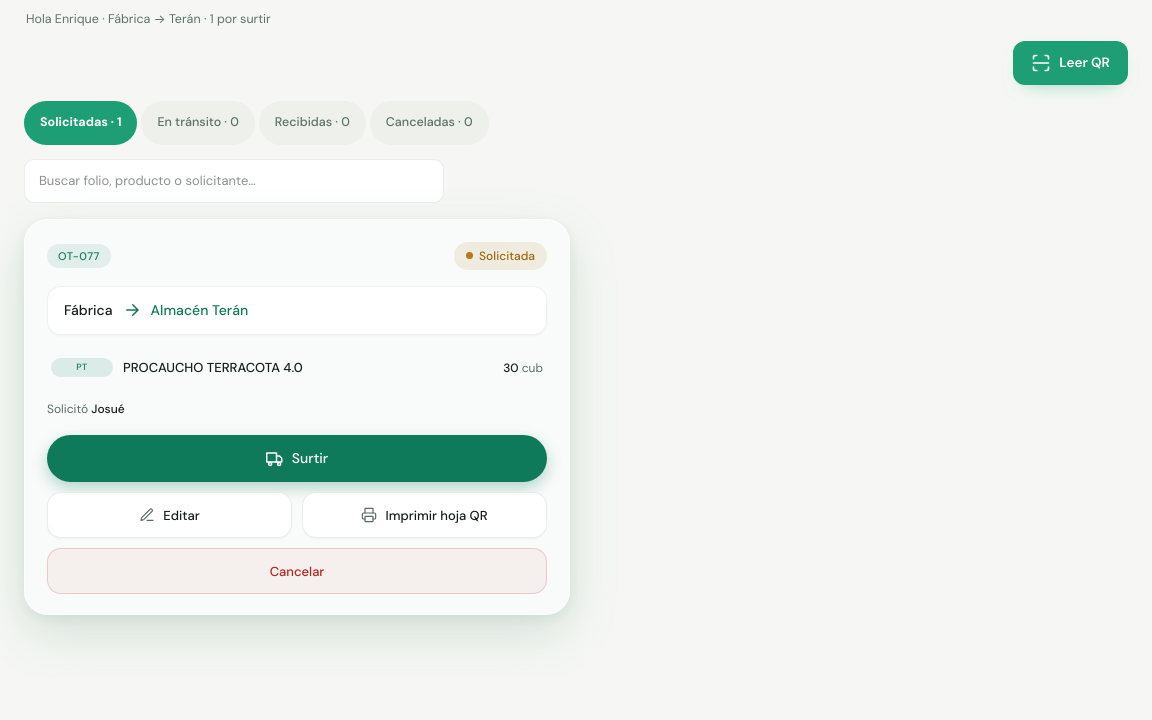
it: Surtir eligiendo lotes › "Usar sugerencia" regresa al prellenado
Click the button "Surtir" at (297, 459), box [47,435,547,482]
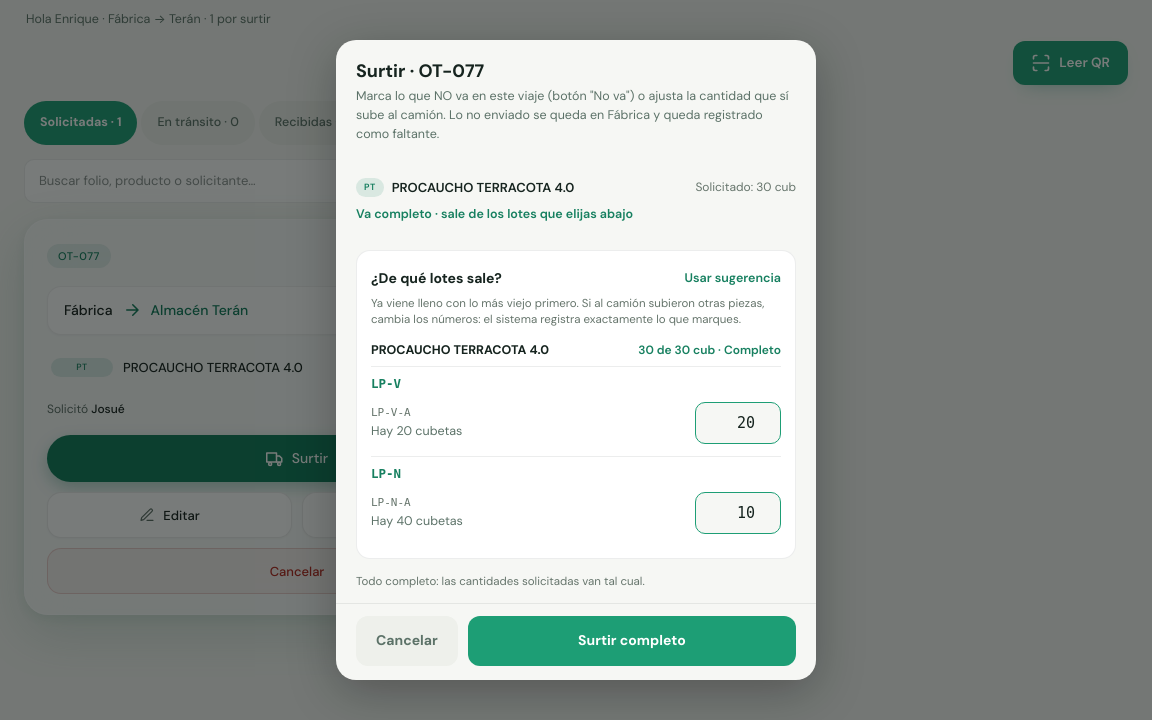
Replace the text in the number field named "Piezas de LP-N-A que van" with "3" at (738, 513), box [695,492,781,534]
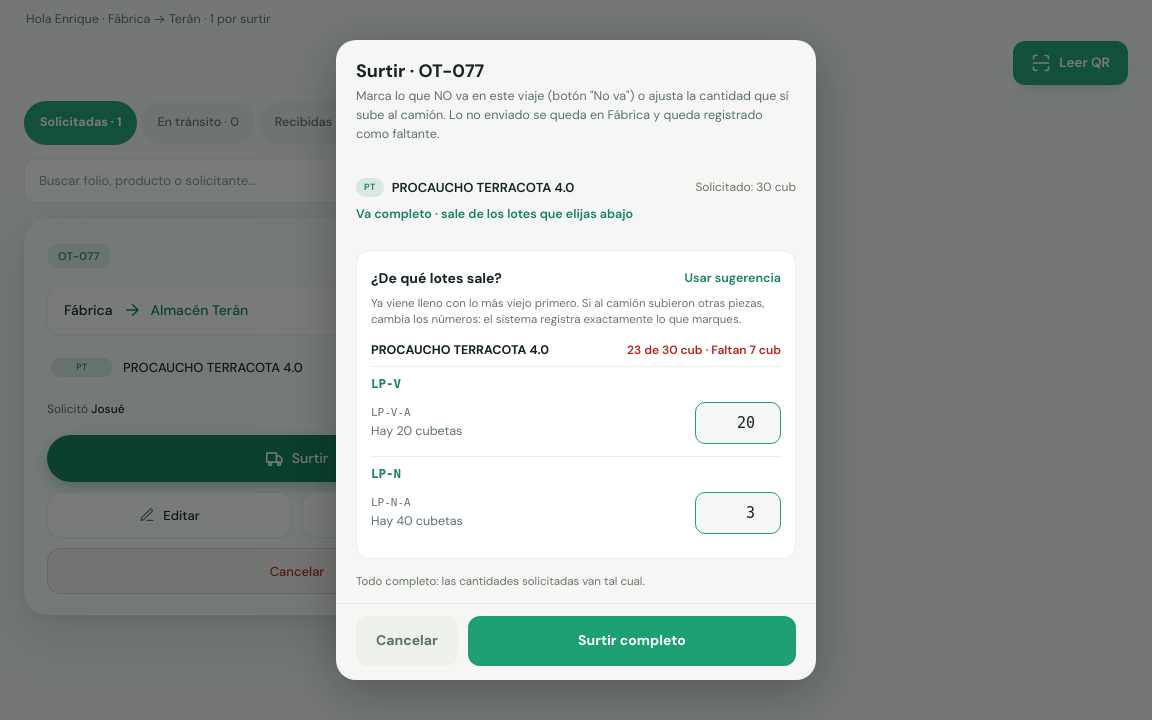
Click the button "Usar sugerencia" at (733, 278), box [685,263,781,294]
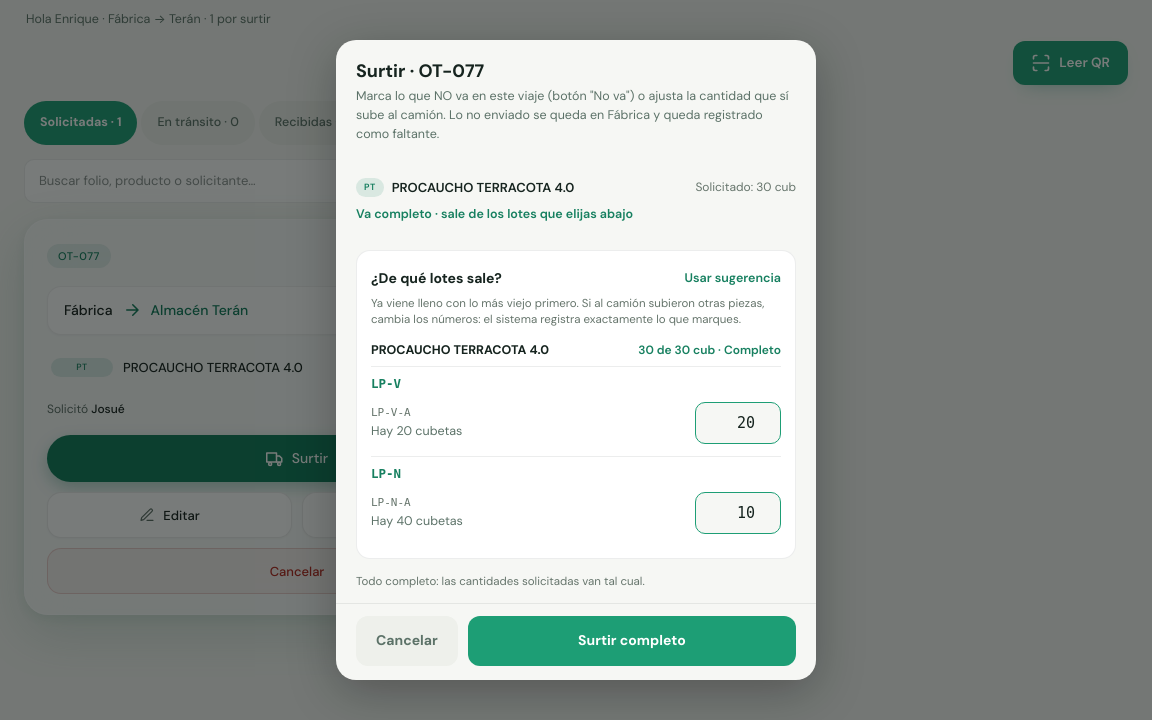
expect the number field named "Piezas de LP-N-A que van" holds "10": met, box [695,492,781,534]
